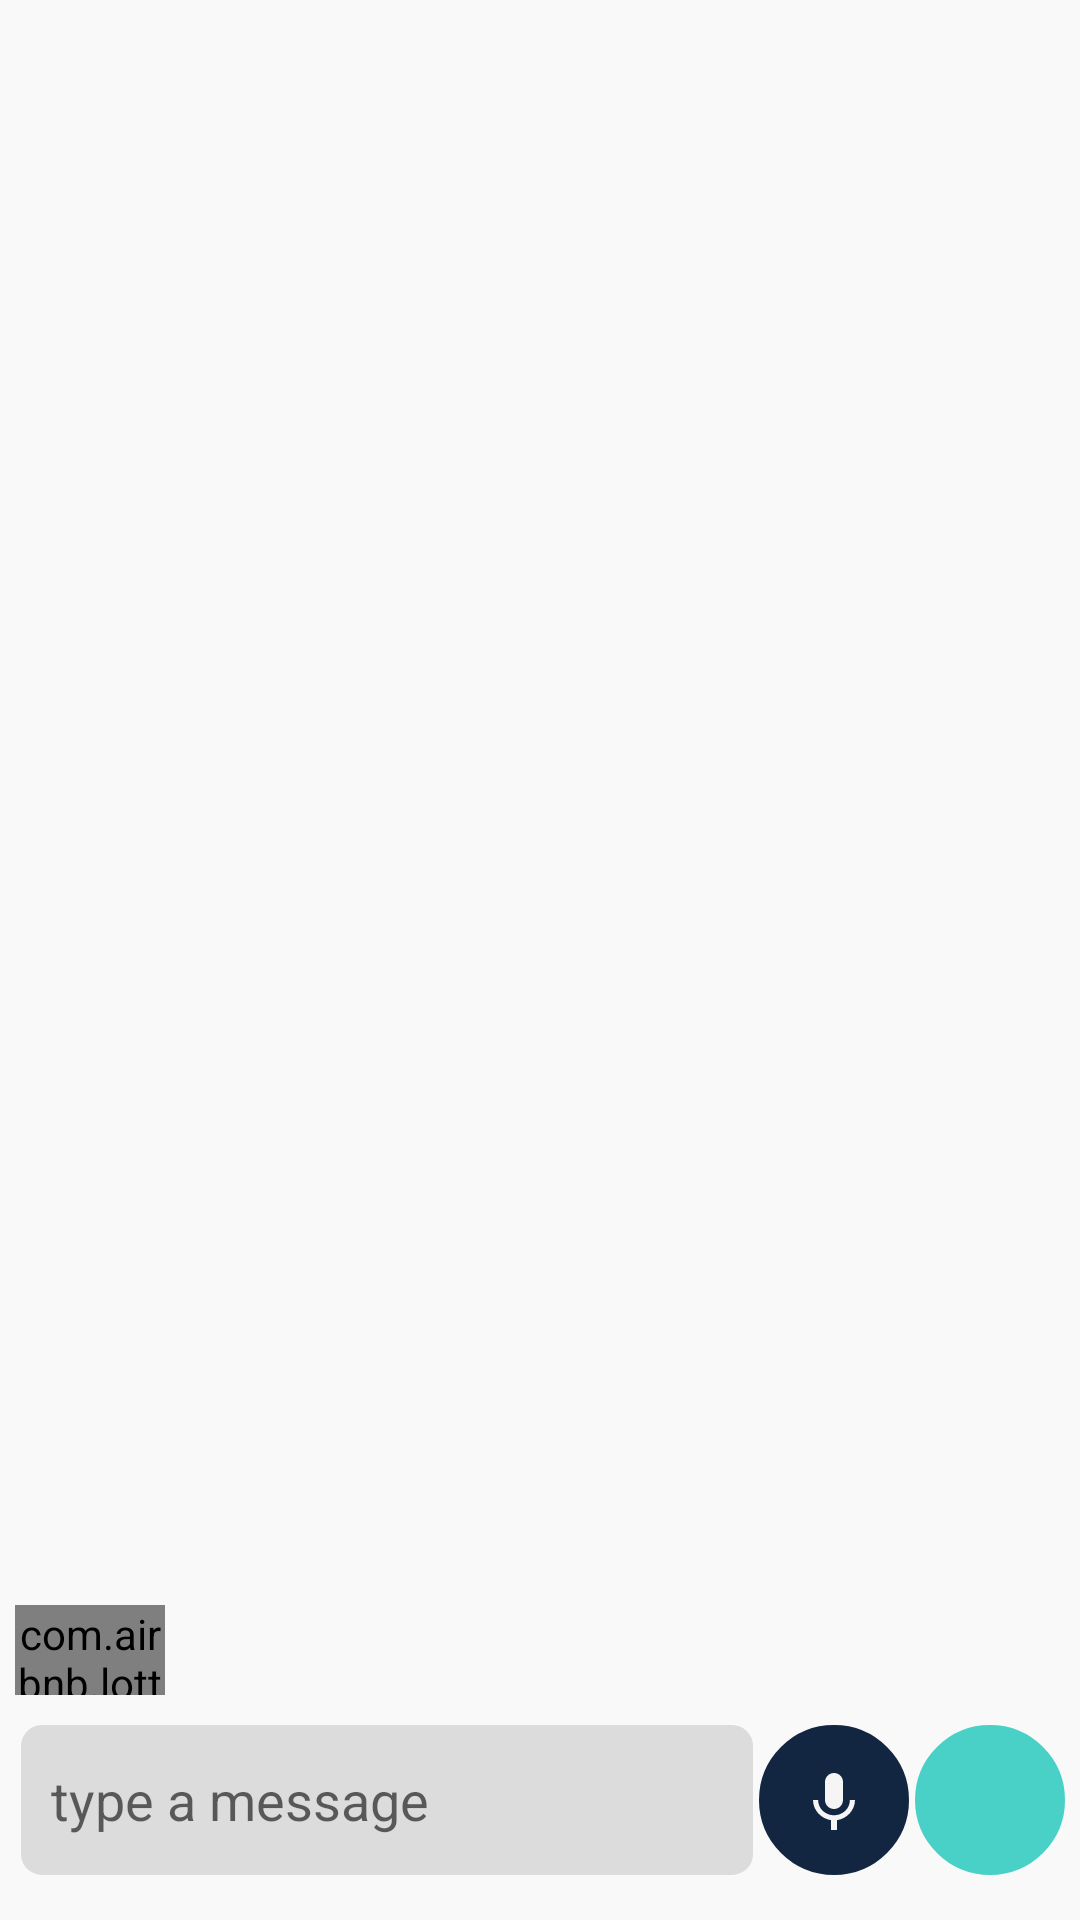

Icon bounding boxes for this 1080px×1920px phone screenshot, format (x1, y1, x2, y2):
voice: (759, 1725, 909, 1875)
